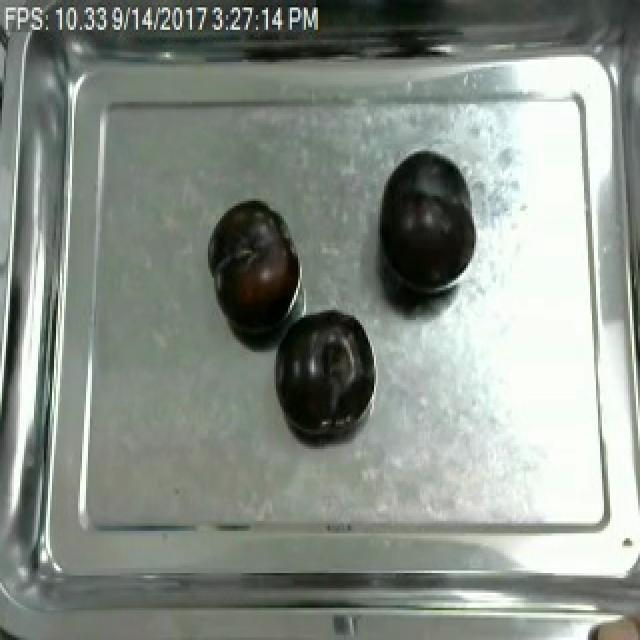Fruit: (374, 146, 478, 303), (266, 305, 374, 437), (206, 198, 300, 335), (578, 603, 640, 640)
